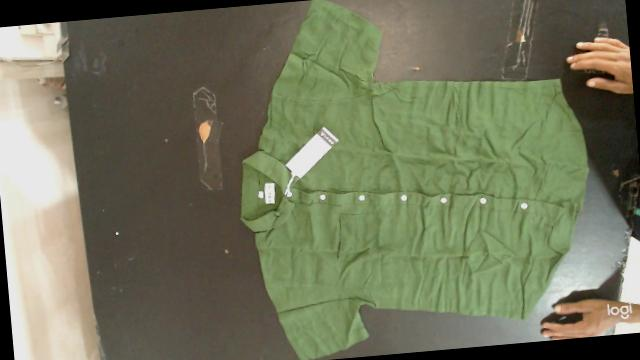new-garment: (241, 0, 588, 360)
